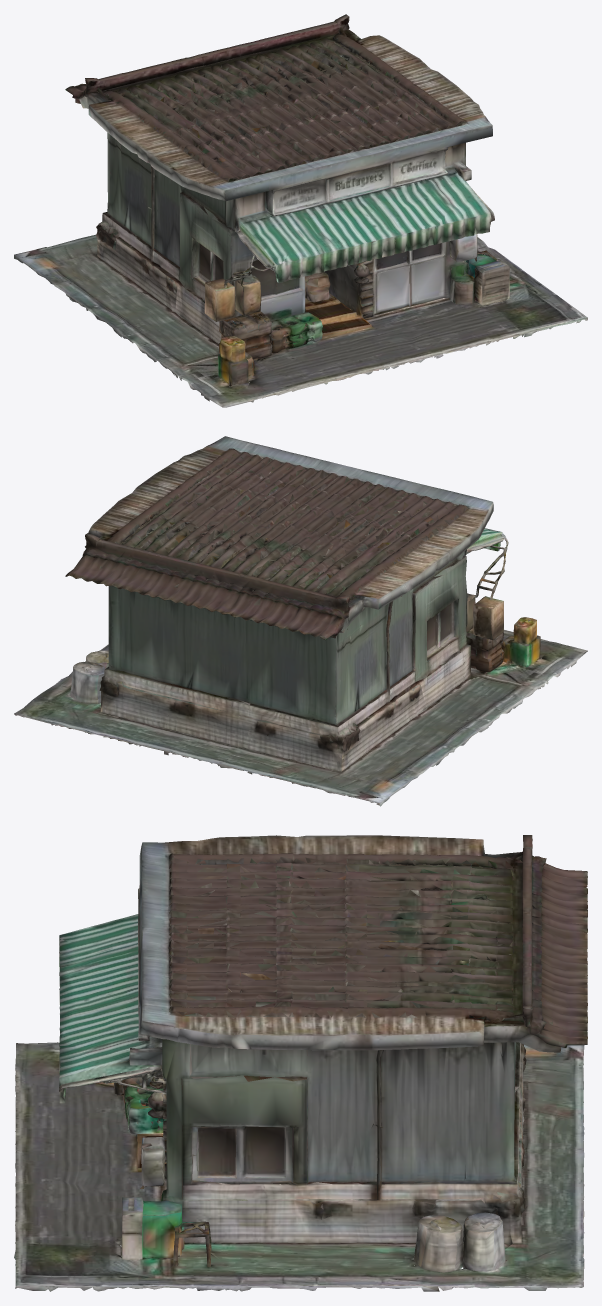
File: shop-corner.glb
The picture shows the model from 3 angles, top to bottom: view 1: azimuth 30°, elevation 25°; view 2: azimuth 150°, elevation 25°; view 3: azimuth 270°, elevation 25°; orthographic projection. The views are drawn at different scales.
Parts seen in each view (by area): view 1: Cafe; view 2: Cafe; view 3: Cafe.
Boxes of the visible parts, box(x1,y1,x2,y2) form: Cafe: box(14, 14, 587, 407); Cafe: box(14, 436, 587, 806); Cafe: box(14, 835, 587, 1291).
Bounding box in the file's own units: 14.37 × 6.8 × 14.26.
1 material, 1 textured.
